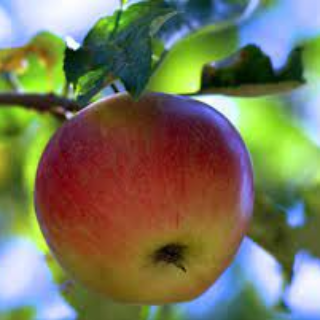tao: (31, 84, 256, 309)
